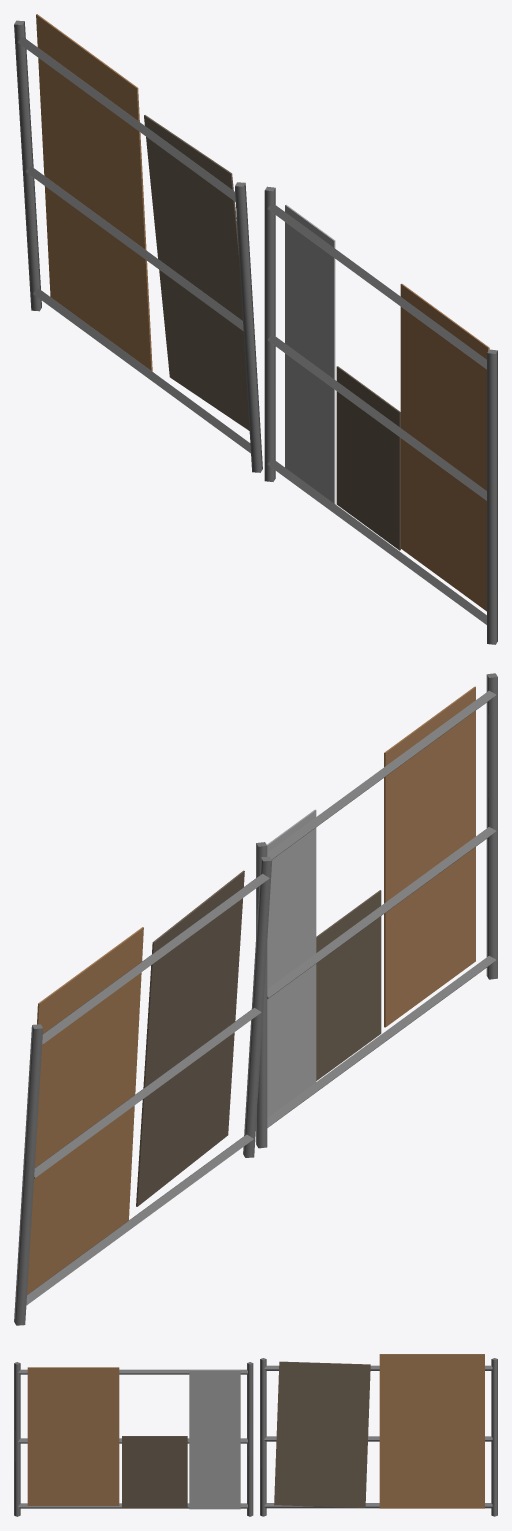
Rendered from SM_fence_107a.gltf.
The picture shows the model from 3 angles, top to bottom: view 1: azimuth 30°, elevation 25°; view 2: azimuth 150°, elevation 25°; view 3: azimuth 270°, elevation 25°; orthographic projection. The views are drawn at different scales.
Parts seen in each view (by area): view 1: SM_fence_107a; view 2: SM_fence_107a; view 3: SM_fence_107a.
Boxes of the visible parts, left/top/right/bottom form: SM_fence_107a: left=14, top=14, right=497, bottom=644; SM_fence_107a: left=14, top=673, right=497, bottom=1325; SM_fence_107a: left=14, top=1354, right=497, bottom=1516.
Bounding box in the file's own units: 0.2495 × 2.14 × 5.9.
Materials: 1 (1 with a texture image).
